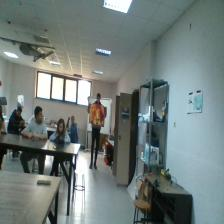fire-poster: (90, 104, 104, 126)
